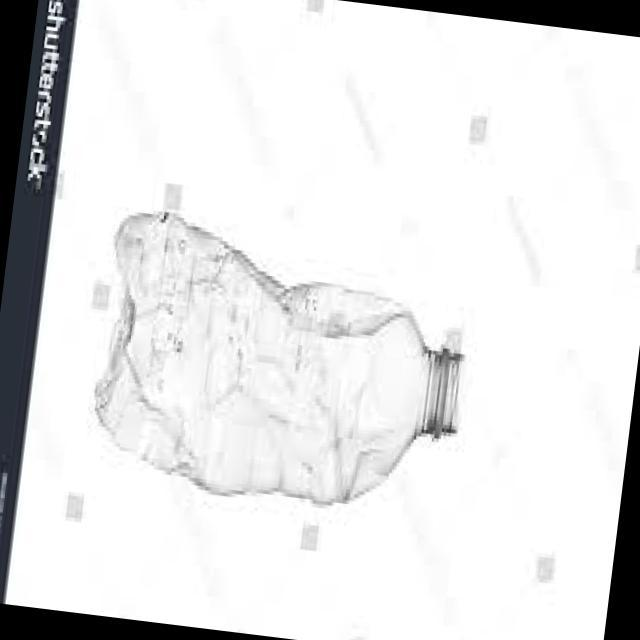defected: (72, 200, 500, 556)
